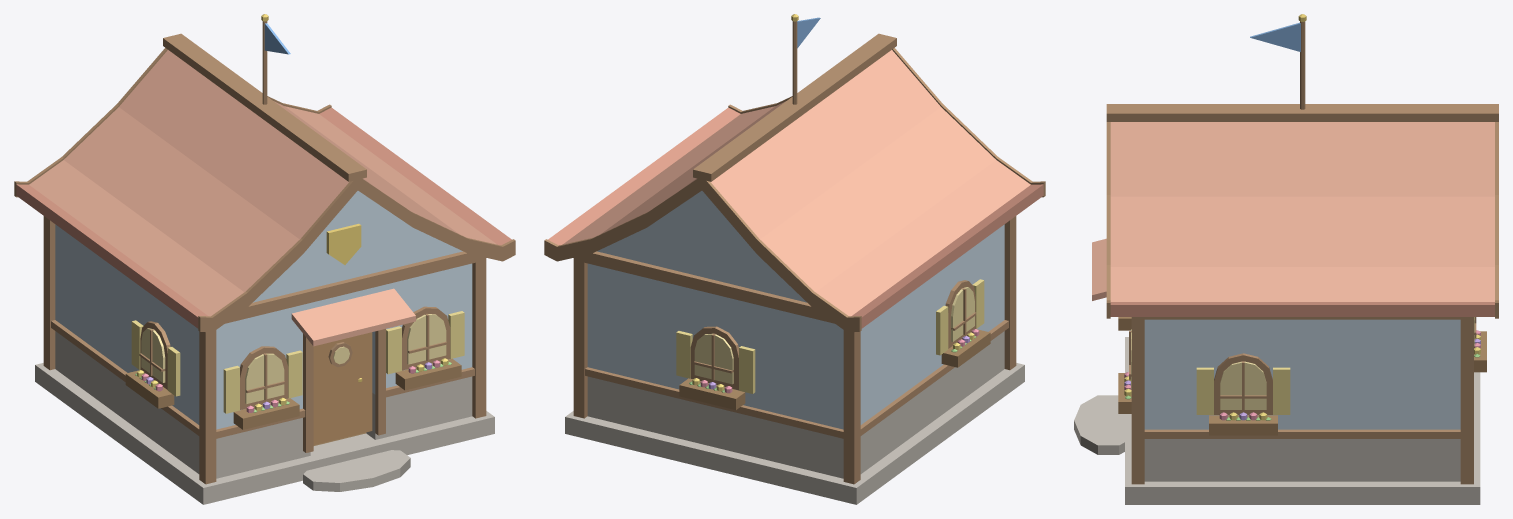
Rendered from hall_sky.glb.
The picture shows the model from 3 angles, left to right: view 1: azimuth 30°, elevation 25°; view 2: azimuth 150°, elevation 25°; view 3: azimuth 270°, elevation 25°; orthographic projection. The views are drawn at different scales.
Parts seen in each view (by area): view 1: Player; view 2: Player; view 3: Player.
Boxes of the visible parts, x1,y1,x2,y2 form: Player: [14, 14, 515, 504]; Player: [544, 14, 1045, 504]; Player: [1074, 14, 1498, 504].
Bounding box in the file's own units: 5.84 × 6.97 × 6.45.
